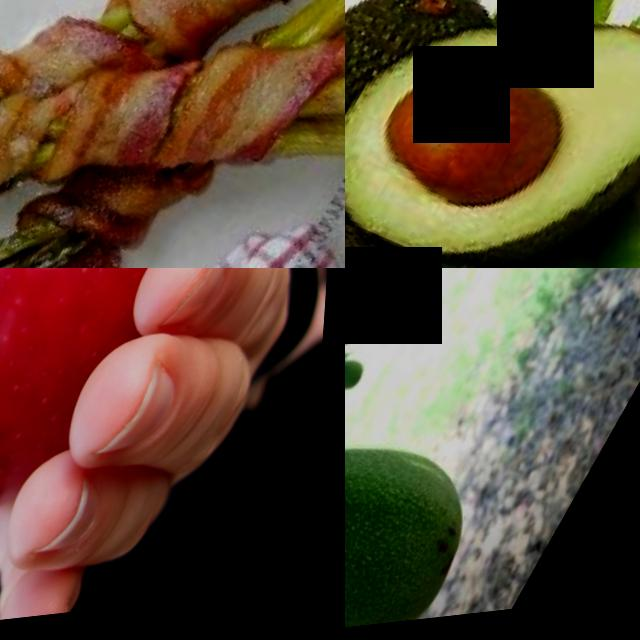apple: (0, 268, 236, 583)
avocado: (345, 0, 640, 268), (345, 360, 512, 640), (345, 0, 468, 268), (345, 148, 604, 268)
